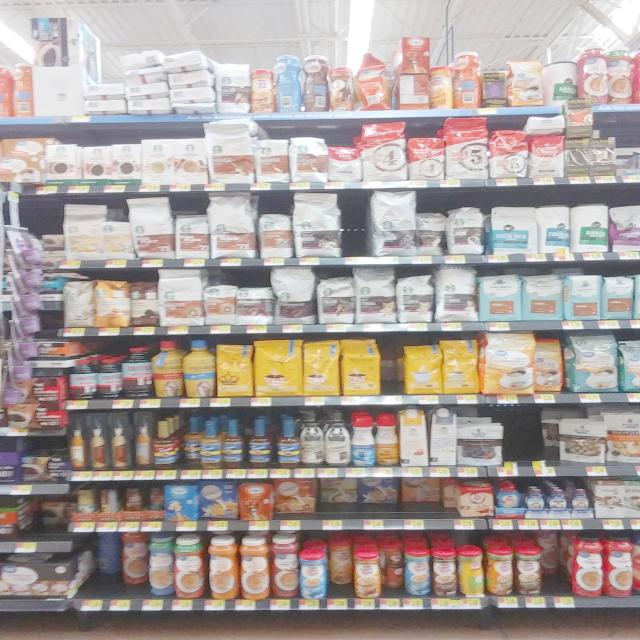empty_space: (323, 504, 453, 520), (506, 418, 543, 464), (378, 342, 406, 394), (341, 216, 371, 260), (543, 564, 572, 596)
